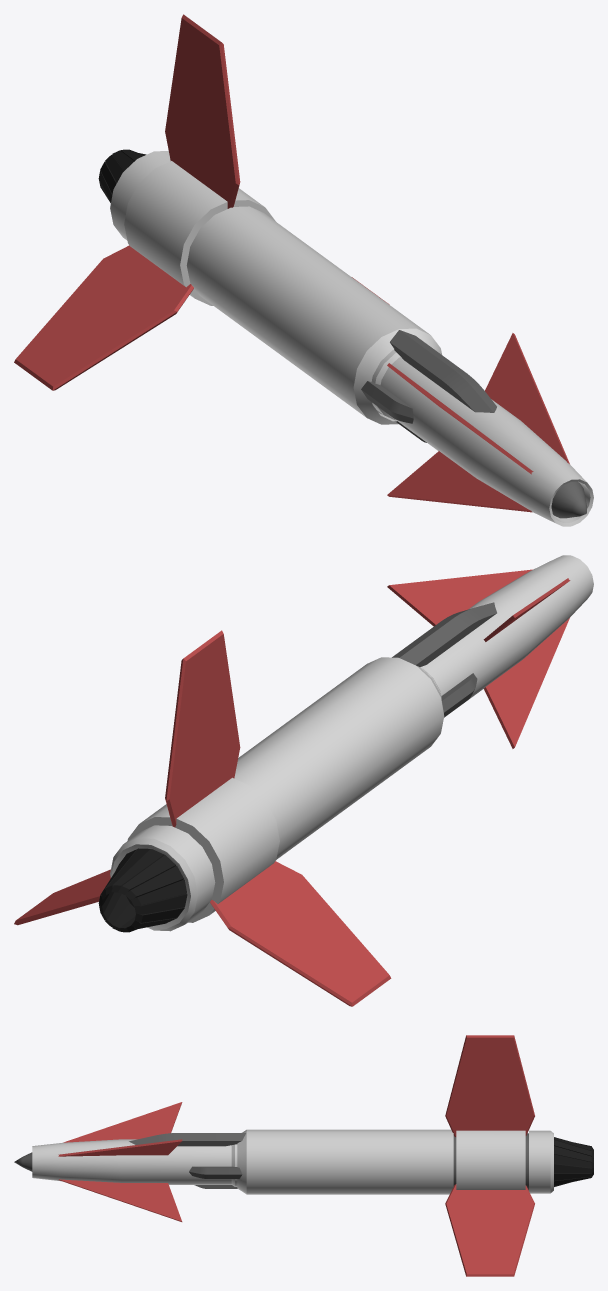
Rendered from Missile.fbx.
3 views of the same model, one above another, from view 1: azimuth 30°, elevation 25°; view 2: azimuth 150°, elevation 25°; view 3: azimuth 270°, elevation 25° (orthographic). The views are drawn at different scales.
Visible parts, largest first — view 1: Circle.002; view 2: Circle.002; view 3: Circle.002.
Part boxes in pixels (box(x1,y1,x2,y2)): Circle.002: box(14, 14, 593, 526); Circle.002: box(14, 555, 593, 1006); Circle.002: box(14, 1035, 593, 1276).
Bounding box in the file's own units: 305 × 728 × 264.
